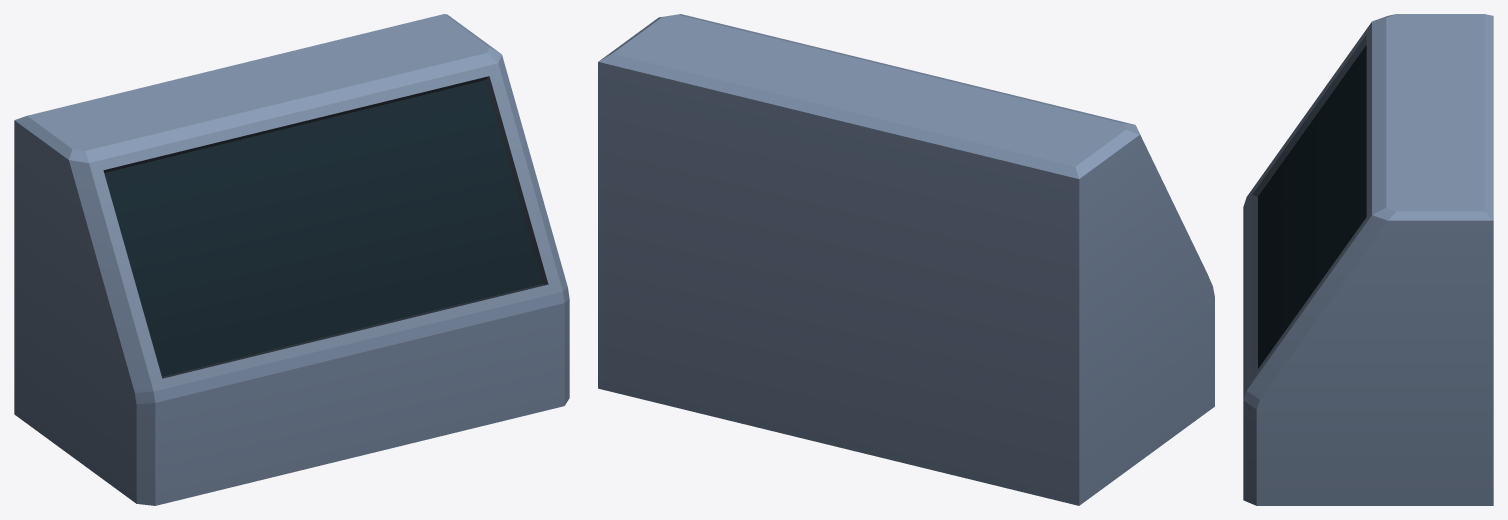
The model's file is control-panel.fbx.
The picture shows the model from 3 angles, left to right: view 1: azimuth 30°, elevation 25°; view 2: azimuth 150°, elevation 25°; view 3: azimuth 270°, elevation 25°; orthographic projection. The views are drawn at different scales.
Parts seen in each view (by area): view 1: control-panel-body, control-panel-screen; view 2: control-panel-body; view 3: control-panel-body, control-panel-screen.
Part boxes in pixels (bbox=[...]): control-panel-body: bbox=[14, 14, 569, 505]; control-panel-screen: bbox=[104, 80, 542, 376]; control-panel-body: bbox=[598, 14, 1214, 505]; control-panel-body: bbox=[1243, 14, 1493, 505]; control-panel-screen: bbox=[1258, 45, 1366, 368].
Bounding box in the file's own units: 3 × 1.55 × 1.99.
